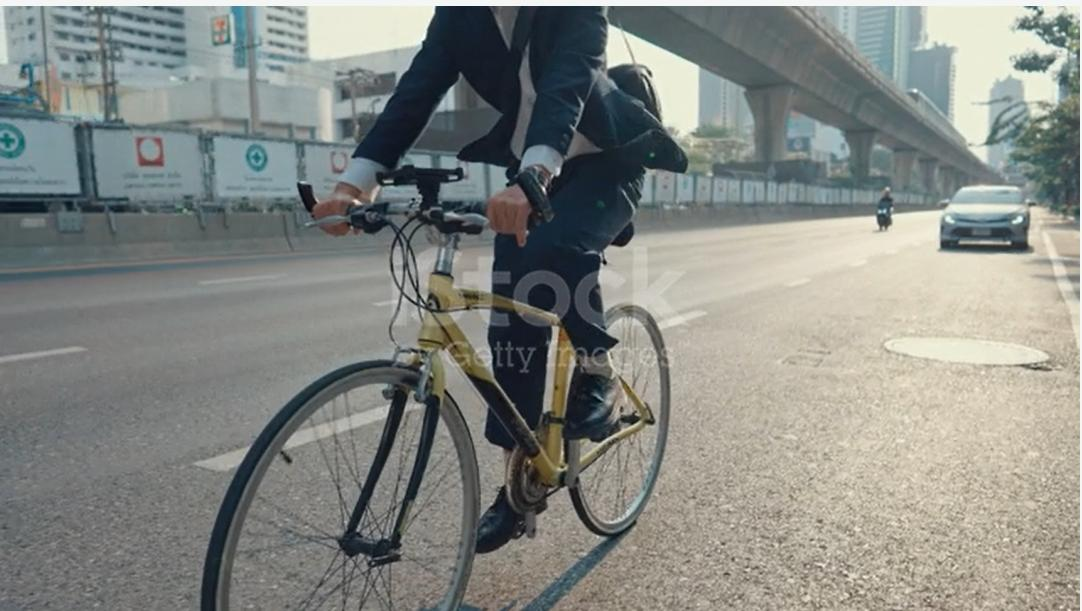bicycle: (183, 131, 740, 611)
car: (923, 165, 1057, 265)
motorcycle: (869, 183, 900, 242)
